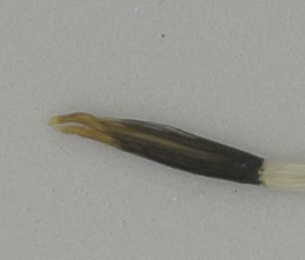เมล้ดปลายพู่กัน: (46, 108, 305, 194)
